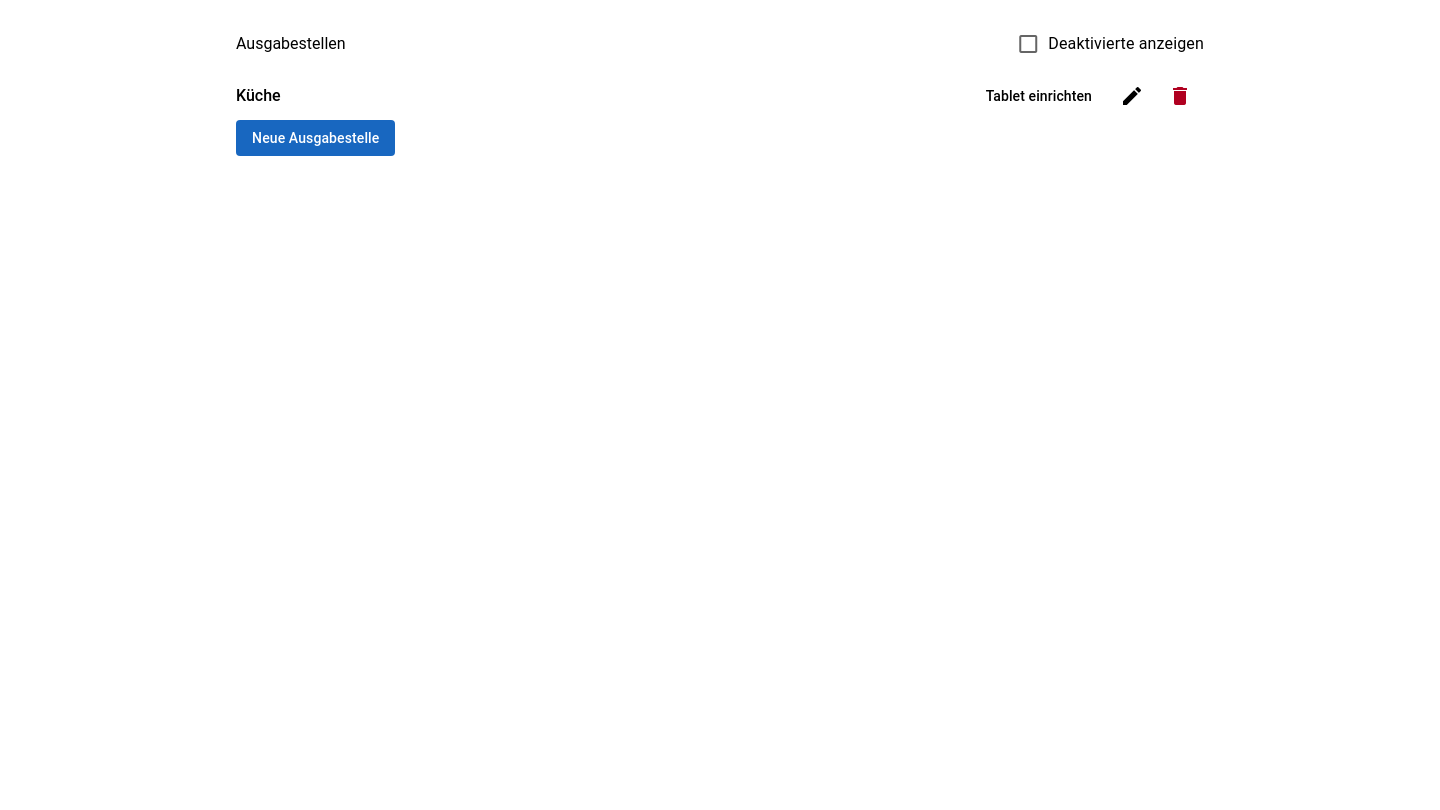
Test: a new station › is shown in the list right away even when the answer to the list is still the old one
Expected: the element with test id "station-row" is shown, [236,72,1204,120]
Click the button with test id "new-station".
click(316, 138)  # box [236,120,395,156]
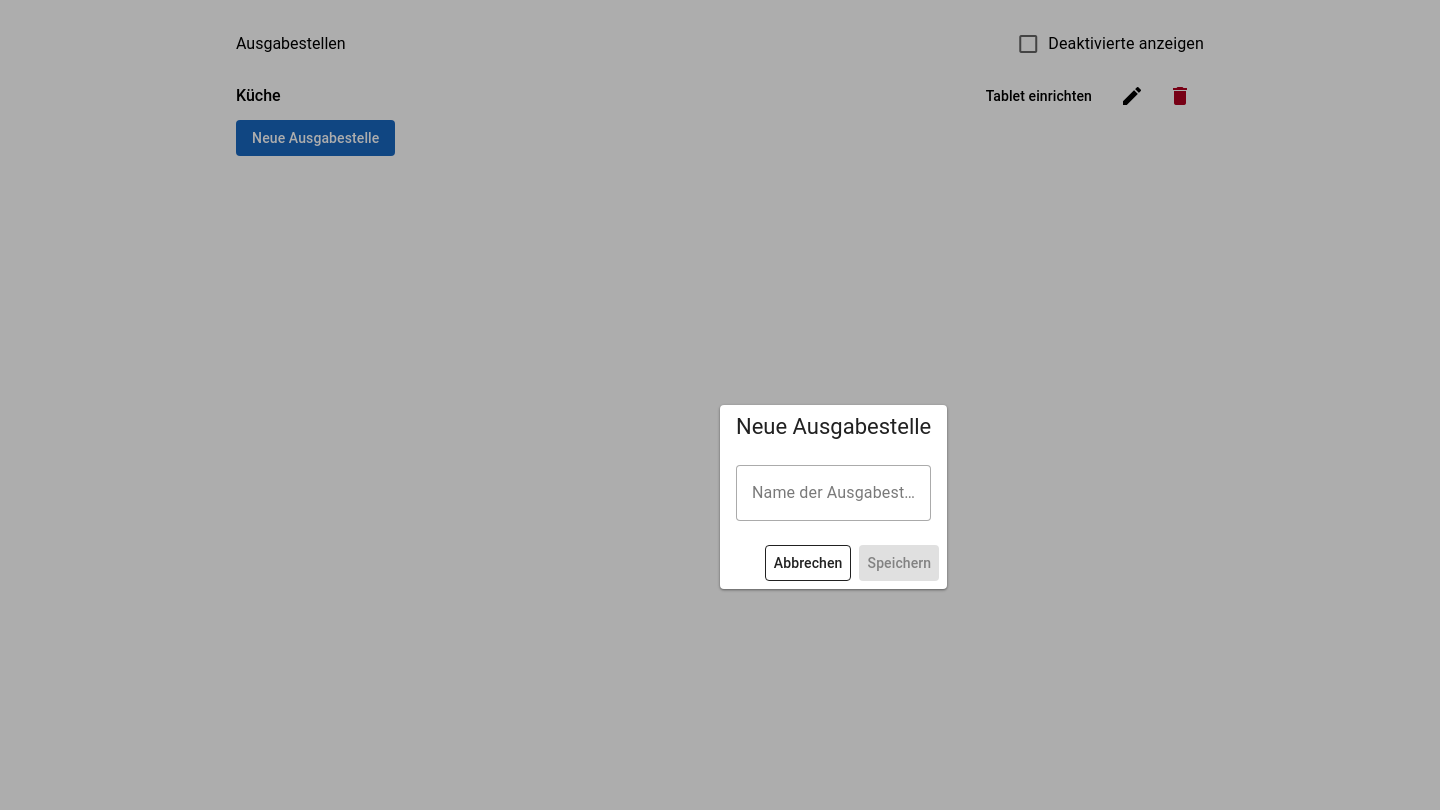
Expected: the element with test id "station-name-field" is shown
Type "Zelt" into the field labelled "Name der Ausgabestelle".
click(834, 493); type("Zelt")  # box [736,465,931,521]
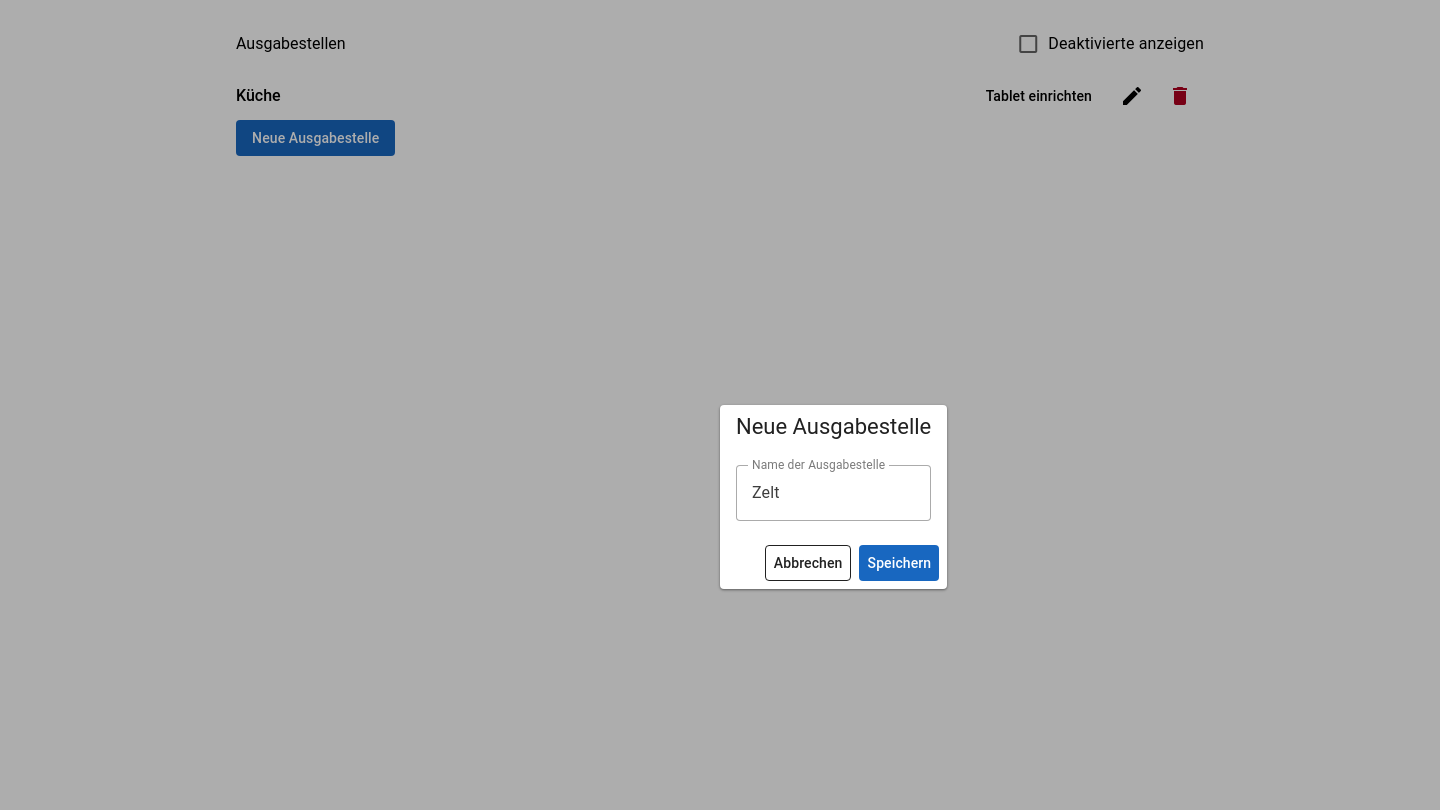
Click the button with test id "form-save".
click(899, 563)  # box [860,545,939,581]
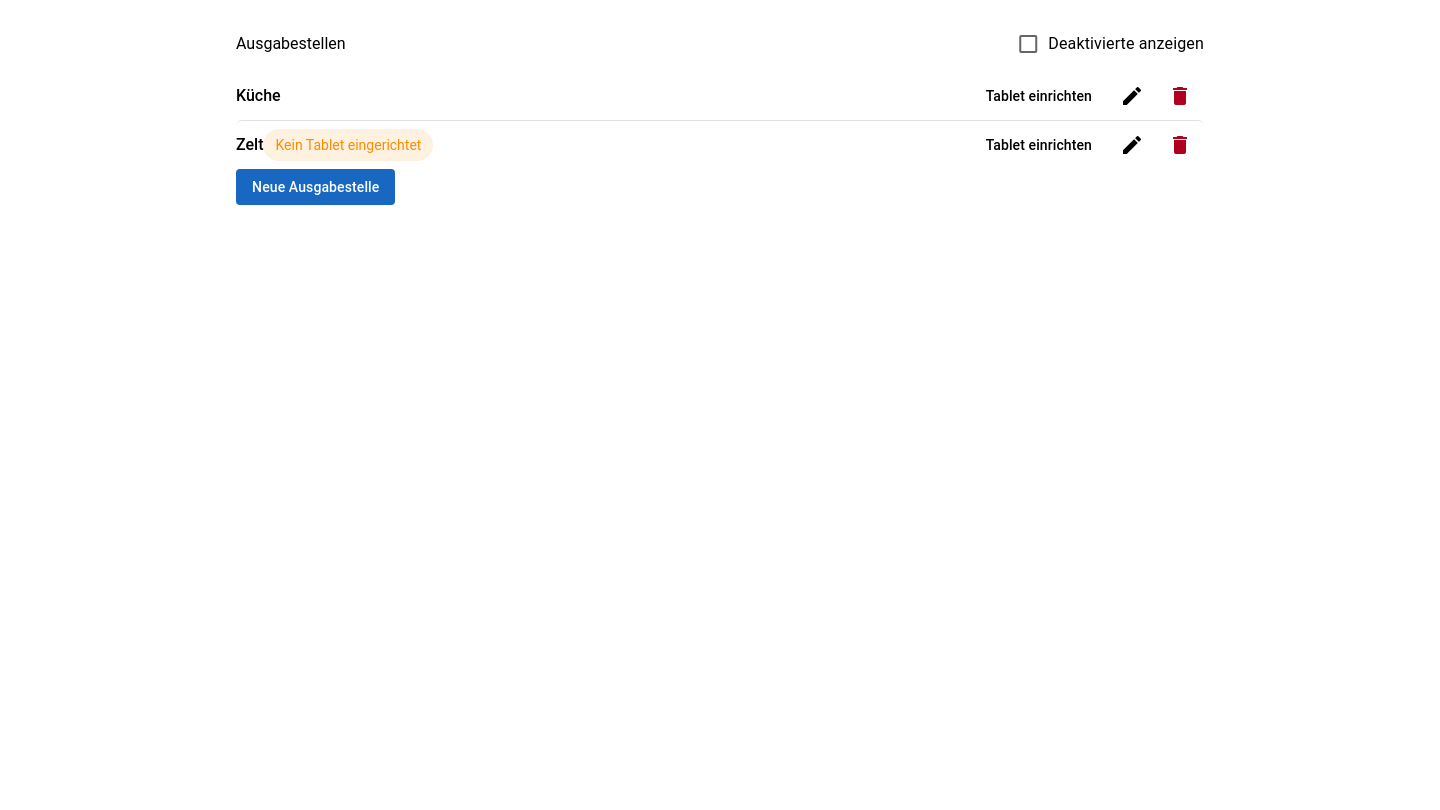
Expected: the element with test id "form-dialog" is gone
Expected: the text with test id "name" reads "Zelt", [236,135,264,154]
